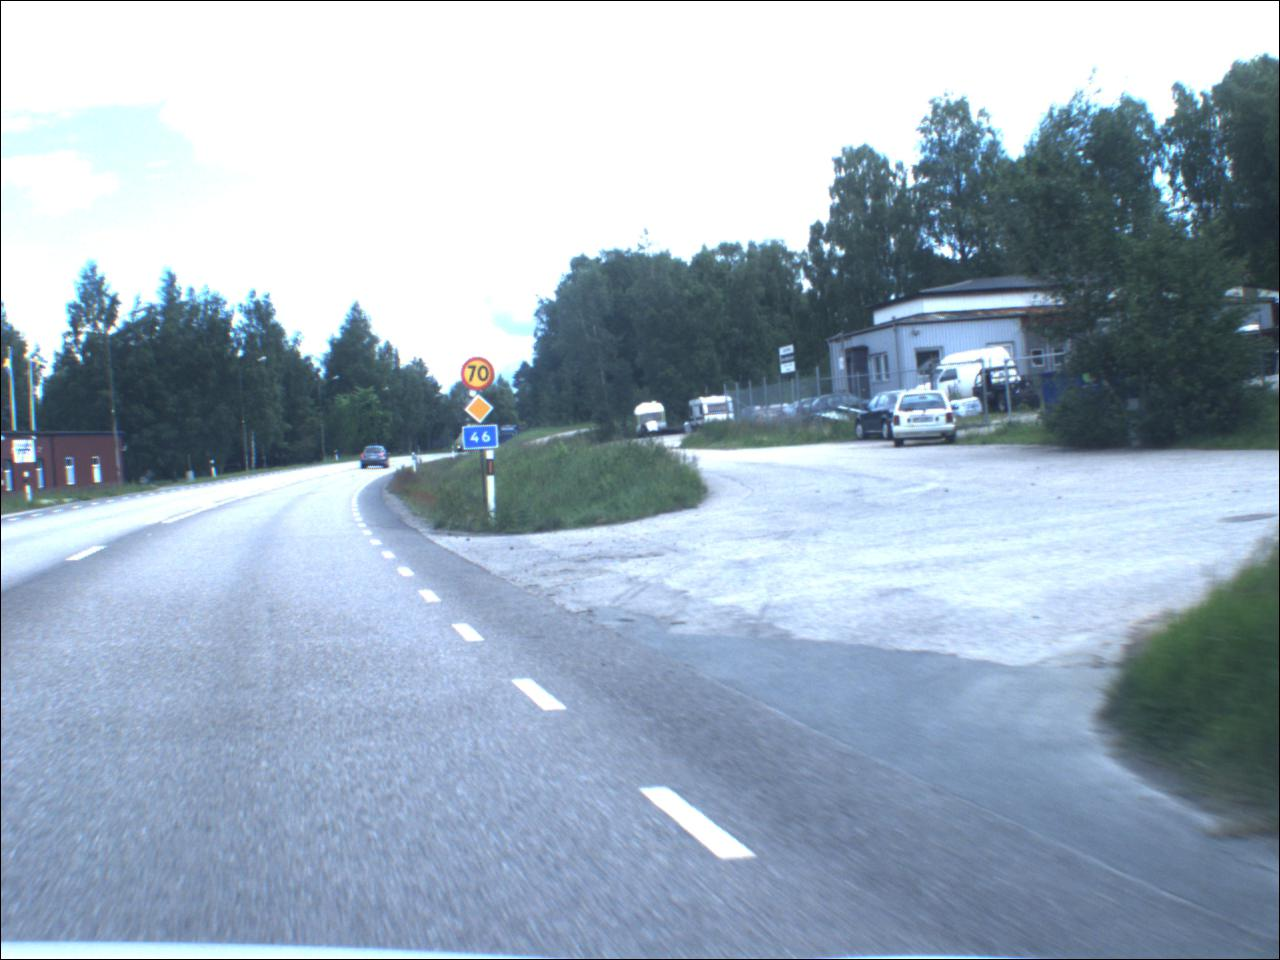70_SIGN: (460, 355, 501, 393)
PRIORITY_ROAD: (462, 393, 497, 426)
